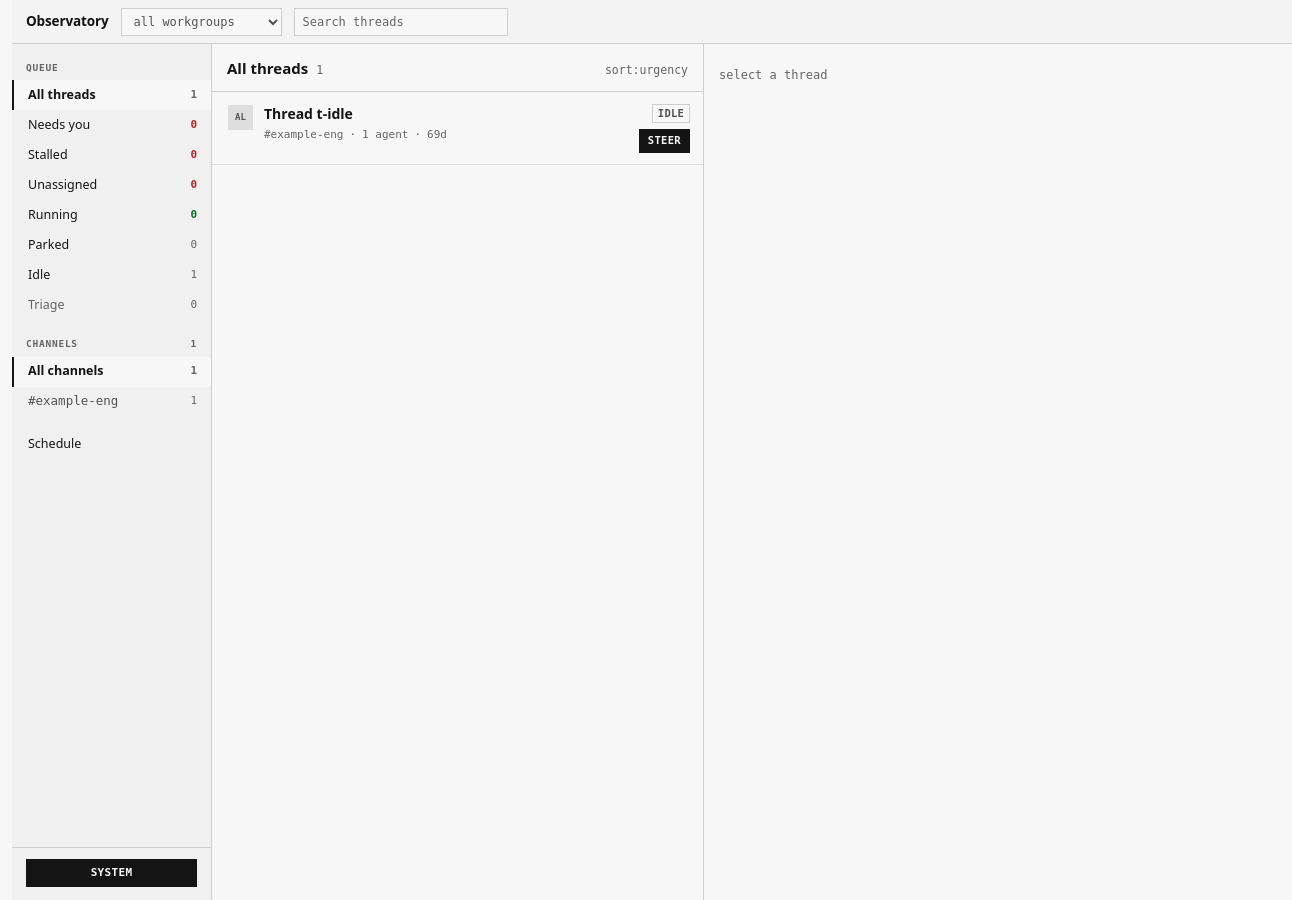
Test: closing a thread — the real thing, not the old Dismiss › while the server says the thread is already closing, the control is disabled and says so
Click the button with class "ncc-row-main" at point(428, 126), box [228,104,628,148]
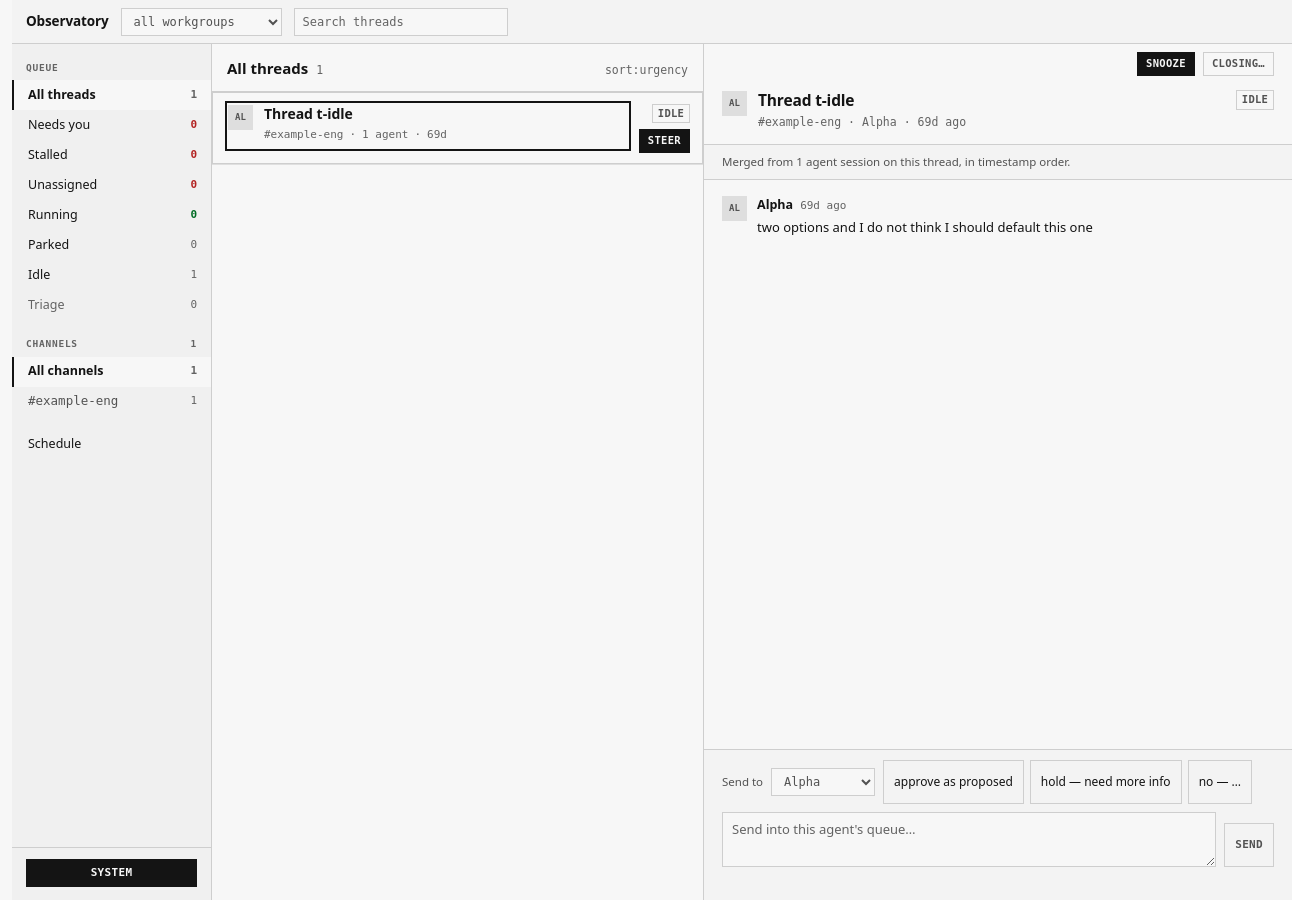
Now the button "closing…" is disabled, box [1203,52,1274,76]
Now the button "snooze" is enabled, box [1137,52,1195,76]
